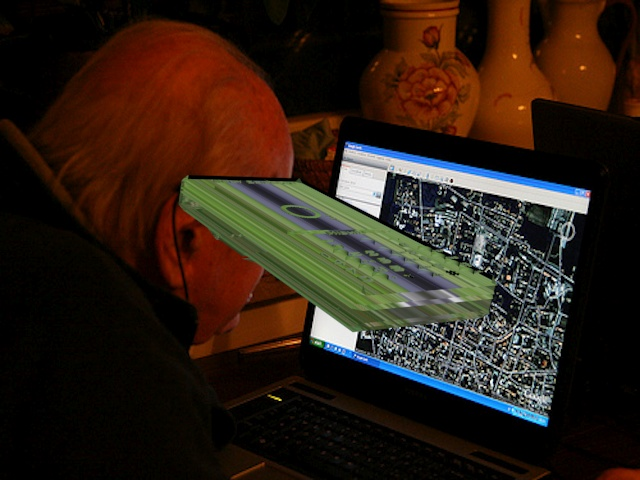mobile_phone: (176, 169, 504, 337)
